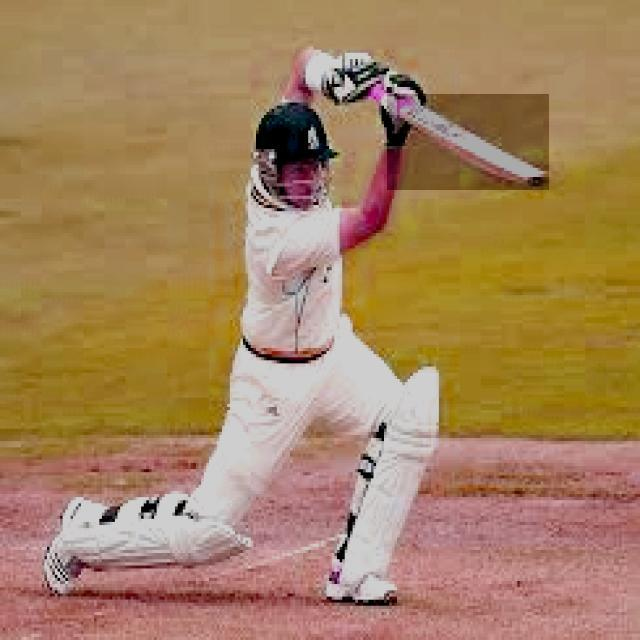bat: (390, 93, 549, 190)
toe: (513, 173, 550, 188)
